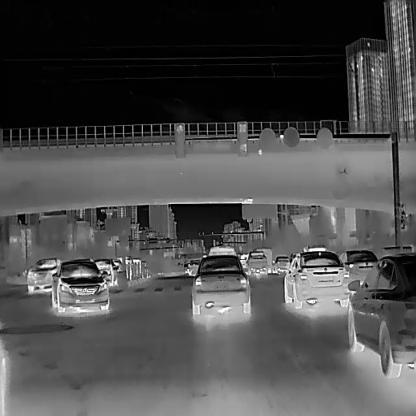car: (347, 252, 416, 377), (283, 250, 350, 307), (191, 254, 250, 314), (52, 259, 109, 312), (338, 249, 379, 284), (27, 256, 61, 291), (94, 258, 118, 286), (244, 250, 267, 275), (252, 247, 273, 272), (272, 255, 289, 274), (207, 246, 236, 255)
